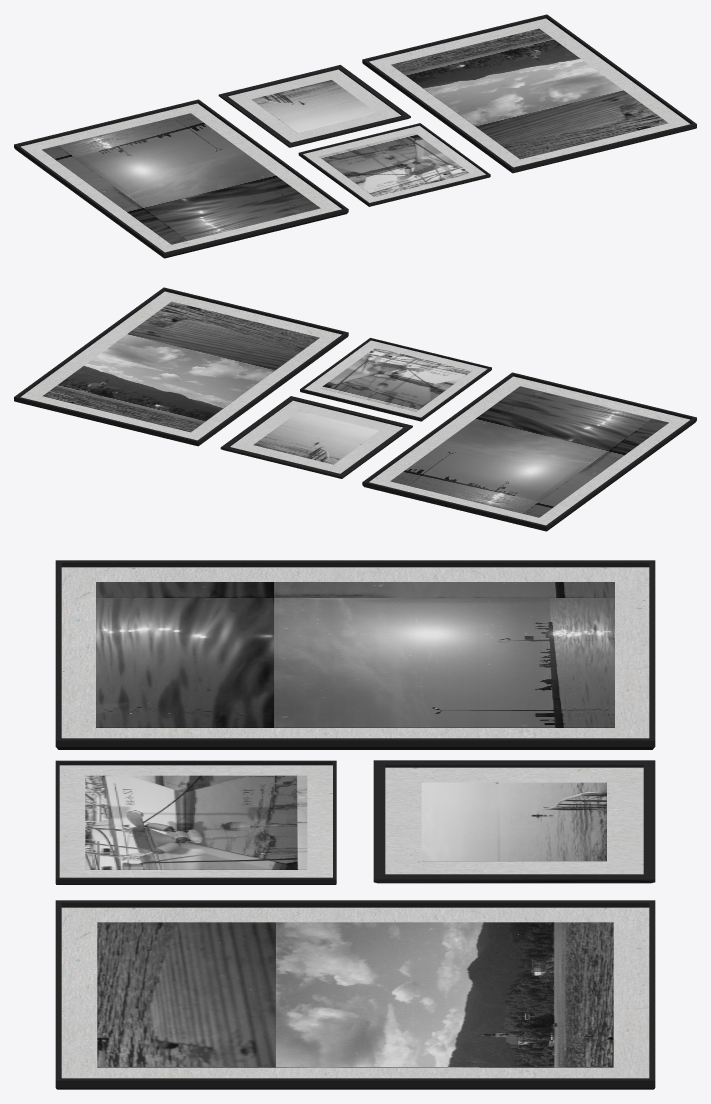
Rendered from Pictures-obj.obj.
3 views of the same model, one above another, from view 1: azimuth 30°, elevation 25°; view 2: azimuth 150°, elevation 25°; view 3: azimuth 270°, elevation 25° (orthographic). The views are drawn at different scales.
Parts seen in each view (by area): view 1: object_7, object_1, object_6, object_9, object_16, object_8, object_10, object_15, object_17, object_3, object_2, object_4 (+6 smaller); view 2: object_7, object_1, object_6, object_9, object_16, object_8, object_10, object_15, object_17, object_5, object_2, object_4 (+6 smaller); view 3: object_7, object_1, object_6, object_9, object_16, object_10, object_8, object_15, object_17, object_4, object_2, object_12 (+7 smaller).
Part boxes in pixels (x1,y1,x2,y2): object_7: (42, 113, 320, 244); object_1: (391, 28, 667, 159); object_6: (369, 18, 690, 167); object_9: (21, 103, 341, 252); object_16: (319, 133, 469, 196); object_8: (14, 99, 348, 258); object_10: (252, 80, 377, 133); object_15: (228, 69, 401, 142); object_17: (303, 125, 485, 202); object_3: (512, 123, 696, 173); object_2: (362, 59, 512, 172); object_4: (546, 14, 696, 123); object_7: (390, 386, 668, 517); object_1: (43, 301, 319, 432); object_6: (20, 291, 341, 440); object_9: (369, 376, 689, 525); object_16: (320, 347, 471, 411); object_8: (362, 372, 696, 531); object_10: (253, 411, 379, 464); object_15: (230, 400, 403, 473); object_17: (304, 340, 487, 417); object_5: (14, 396, 198, 446); object_2: (198, 332, 348, 445); object_4: (14, 287, 164, 396); object_7: (96, 582, 614, 727); object_1: (97, 922, 613, 1067); object_6: (61, 907, 649, 1078); object_9: (61, 567, 649, 738); object_16: (85, 775, 307, 869); object_10: (421, 782, 606, 861); object_8: (55, 560, 655, 749); object_15: (385, 767, 643, 874); object_17: (59, 765, 332, 877); object_4: (55, 1078, 655, 1089); object_2: (56, 900, 654, 907); object_12: (373, 874, 655, 883).
Size of the model in its own units: 2136 by 20 by 1040.
Materials: 6 (5 with a texture image).
